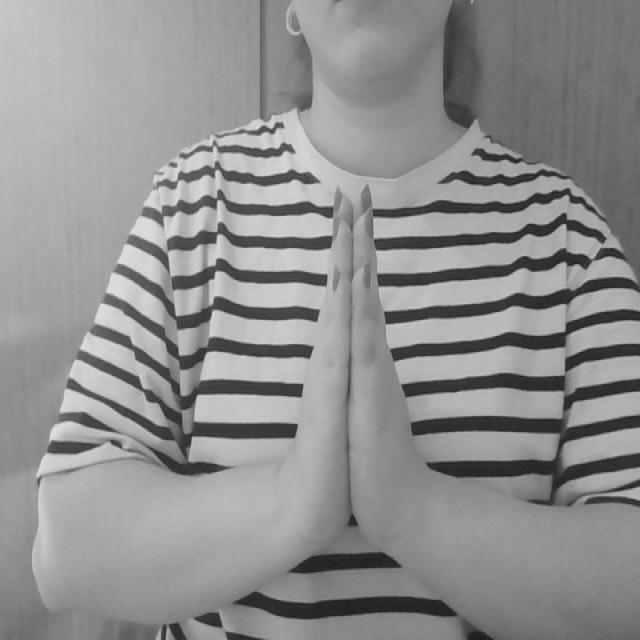Ozur-Dilemek: (286, 171, 422, 572)
